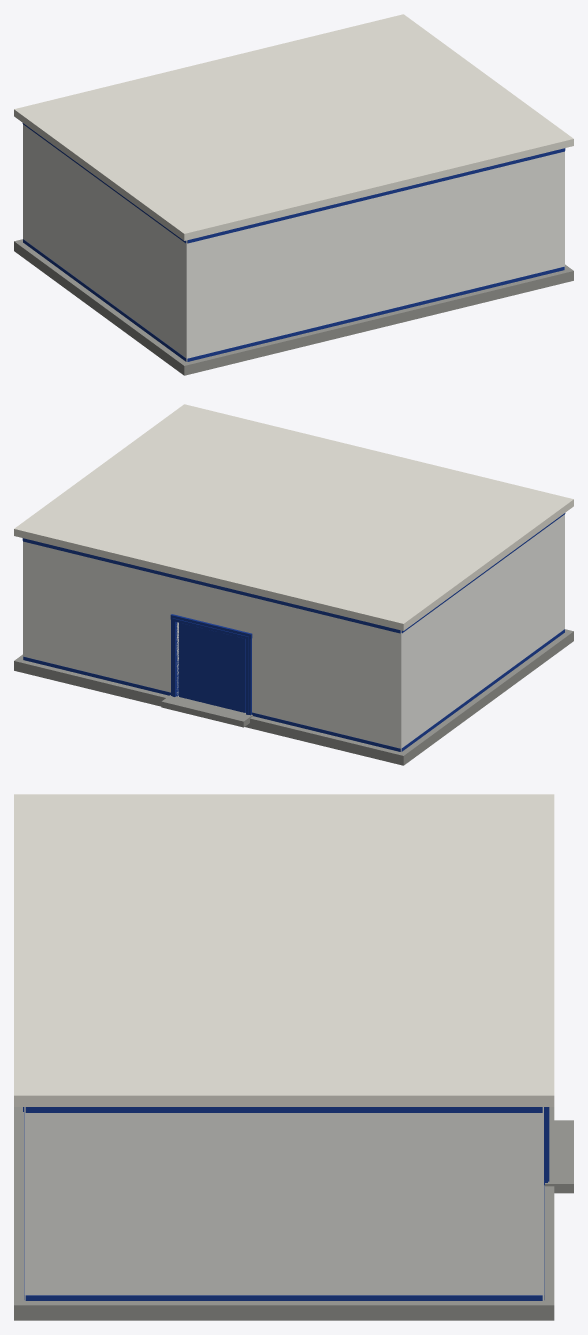
Rendered from SM_Interior_academy_test_room_Shell.fbx.
The picture shows the model from 3 angles, top to bottom: view 1: azimuth 30°, elevation 25°; view 2: azimuth 150°, elevation 25°; view 3: azimuth 270°, elevation 25°; orthographic projection. The views are drawn at different scales.
Parts seen in each view (by area): view 1: SM_Interior_academy_test_room_Shell; view 2: SM_Interior_academy_test_room_Shell; view 3: SM_Interior_academy_test_room_Shell.
Part boxes in pixels (x1,y1,x2,y2): SM_Interior_academy_test_room_Shell: (14,14,573,375); SM_Interior_academy_test_room_Shell: (14,404,573,765); SM_Interior_academy_test_room_Shell: (14,794,573,1320).
Bounding box in the file's own units: 12.36 × 4.3 × 9.7.
